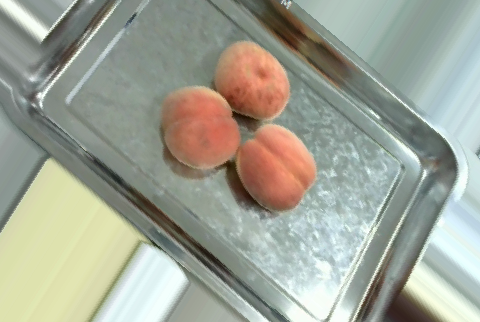Peach: (235, 122, 317, 209), (159, 86, 240, 169), (209, 40, 290, 118)
